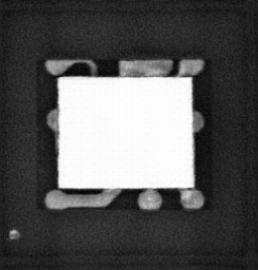DIE_INK: (9, 227, 19, 240)
